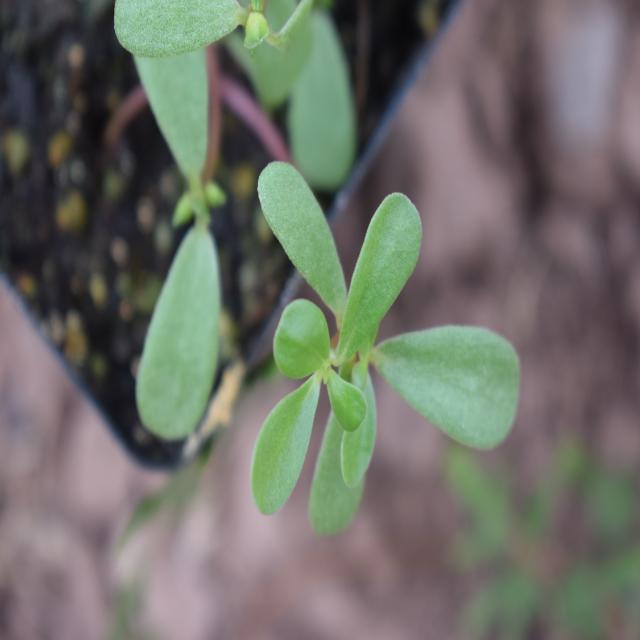purslane: (141, 69, 534, 531)
